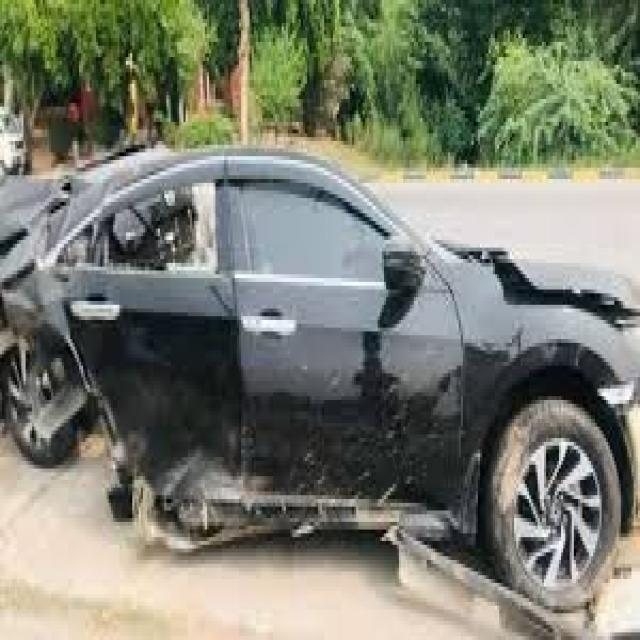accident: (14, 128, 621, 592)
